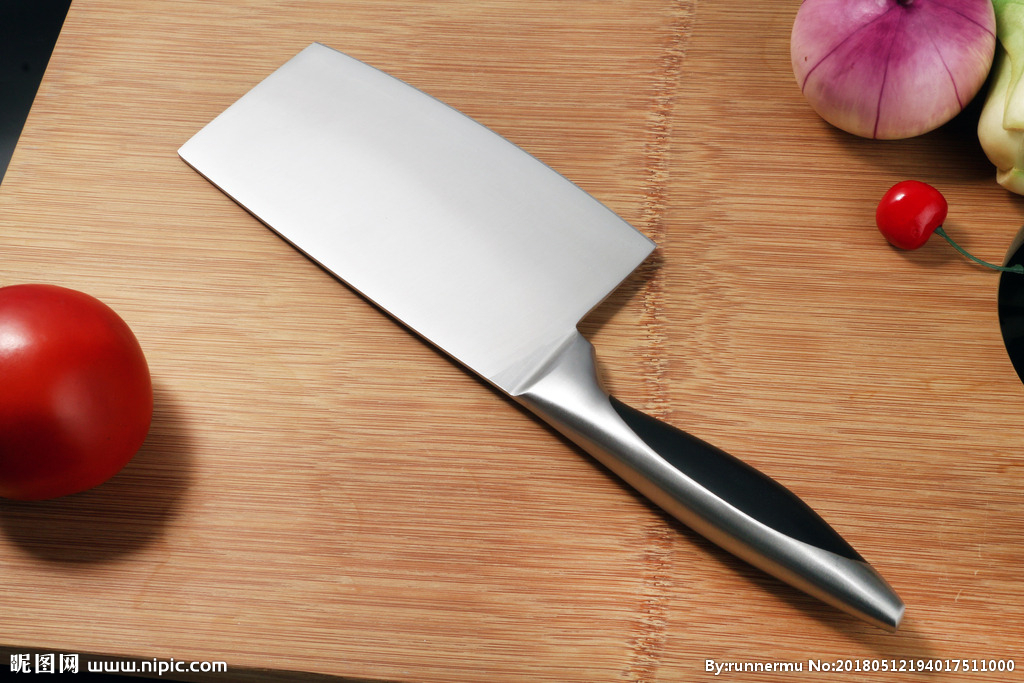knief: (180, 58, 921, 613)
